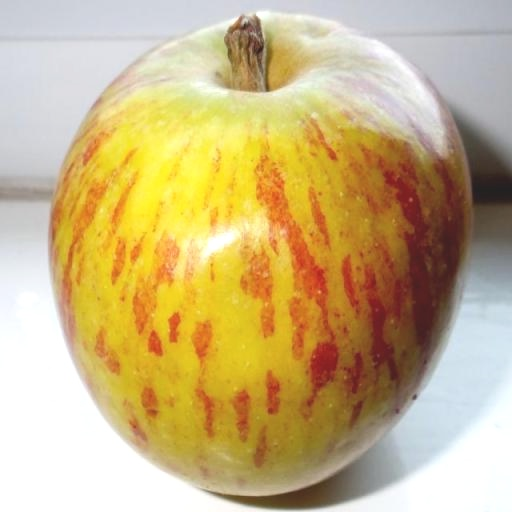fruit: (50, 13, 470, 494)
